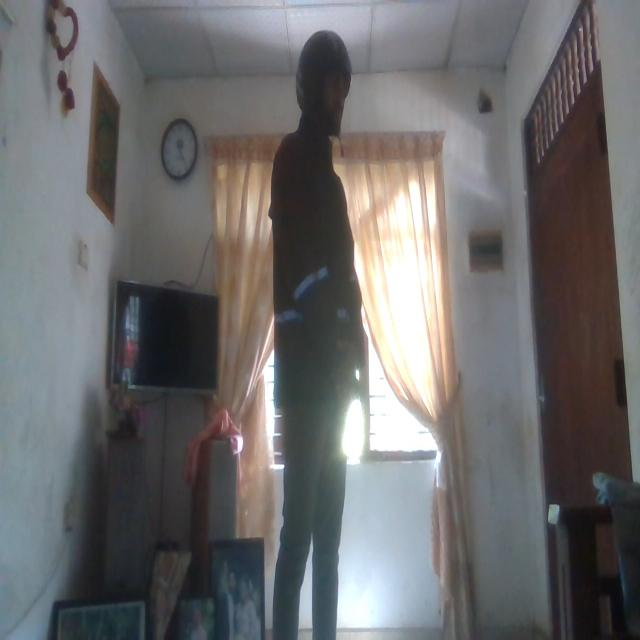Helmet_Wearer: (294, 17, 352, 130)
Jacket_Wearer: (272, 128, 364, 437)
Person: (264, 29, 366, 640)
